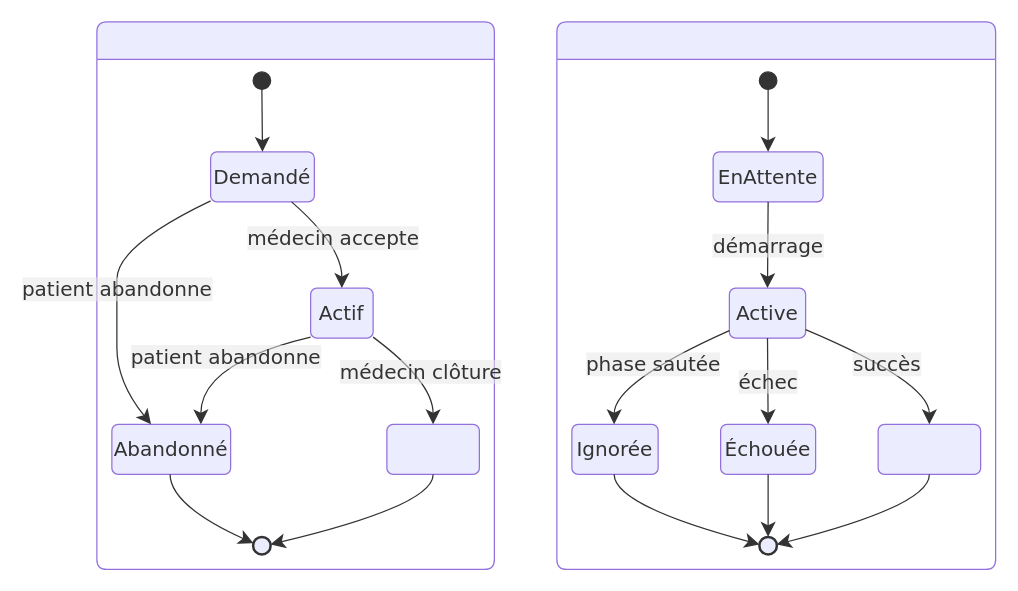
Some shapes in this 1018 by 591 pixel diagram are drawn without their labels. The shapes that lost their labels are listed below. From the top down, each one's box as (x1, y1, x2, y2) in pixels, then its label:
(96, 21, 494, 569): Épisode de traitement
(556, 21, 996, 569): Phase de traitement
(386, 423, 479, 474): Terminé
(877, 423, 981, 474): Terminée
